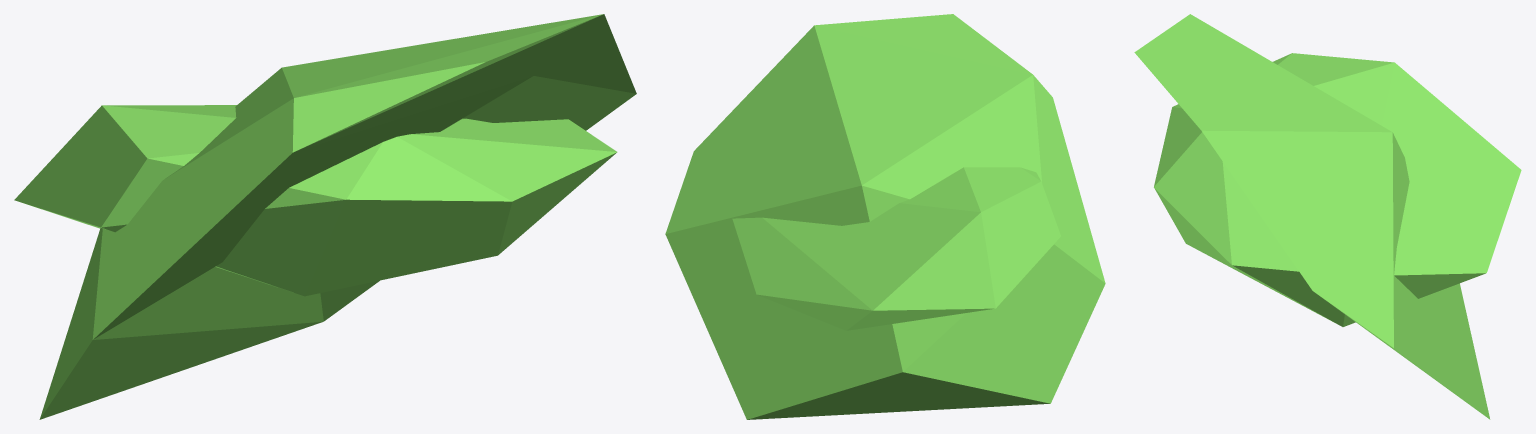
Rendered from SlimeGibs.fbx.
The picture shows the model from 3 angles, left to right: view 1: azimuth 30°, elevation 25°; view 2: azimuth 150°, elevation 25°; view 3: azimuth 270°, elevation 25°; orthographic projection. The views are drawn at different scales.
Parts seen in each view (by area): view 1: Slime, Slime.003; view 2: Slime, Slime.003; view 3: Slime, Slime.003.
Part boxes in pixels (left/top/right/bottom): Slime: left=39, top=14, right=636, bottom=419; Slime.003: left=14, top=105, right=617, bottom=296; Slime: left=665, top=14, right=1105, bottom=419; Slime.003: left=732, top=167, right=1060, bottom=330; Slime: left=1134, top=14, right=1490, bottom=419; Slime.003: left=1154, top=53, right=1521, bottom=326.
Bounding box in the file's own units: 242 × 180 × 185.
